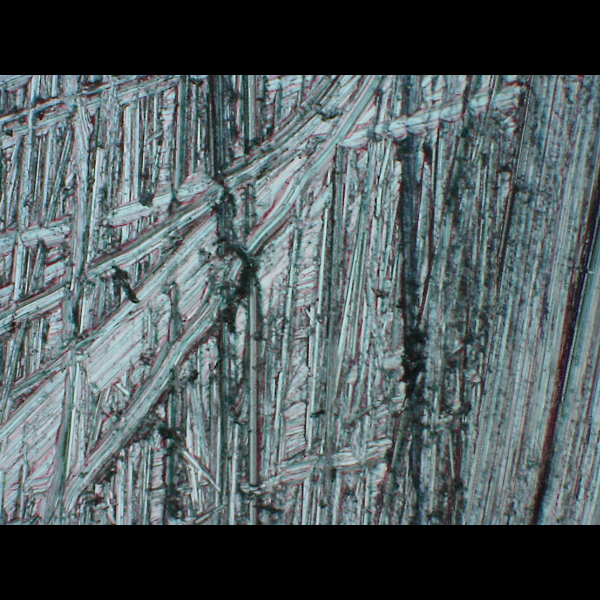d: (0, 75, 397, 502)
